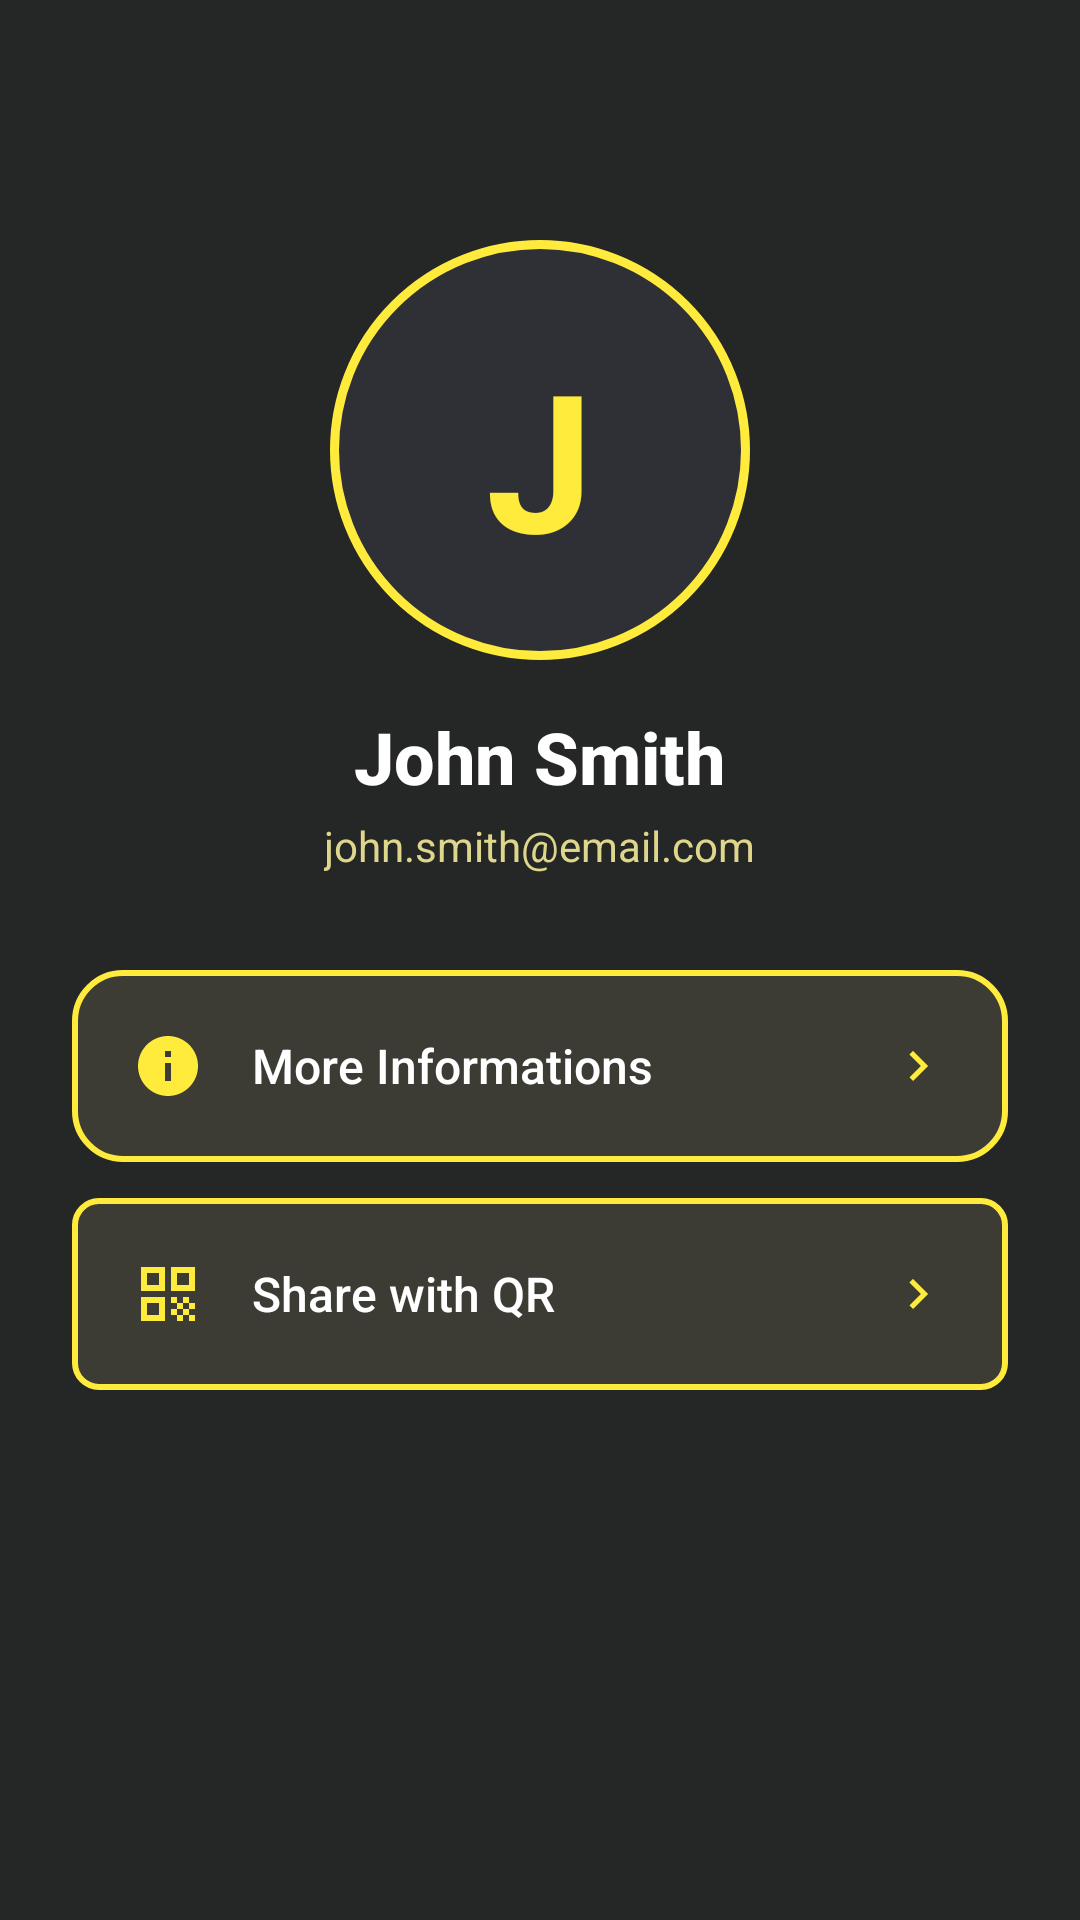

Named icons in this screenshot (1080px x 1920px) and their centers, (x,y):
arrow right: (918,1066), (918,1294)
qr code: (168,1294)
